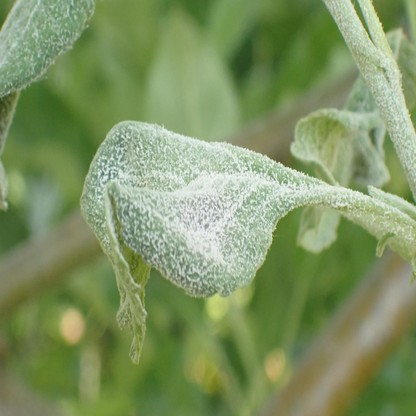powder: (80, 121, 348, 367), (0, 1, 96, 97), (293, 108, 363, 182)
